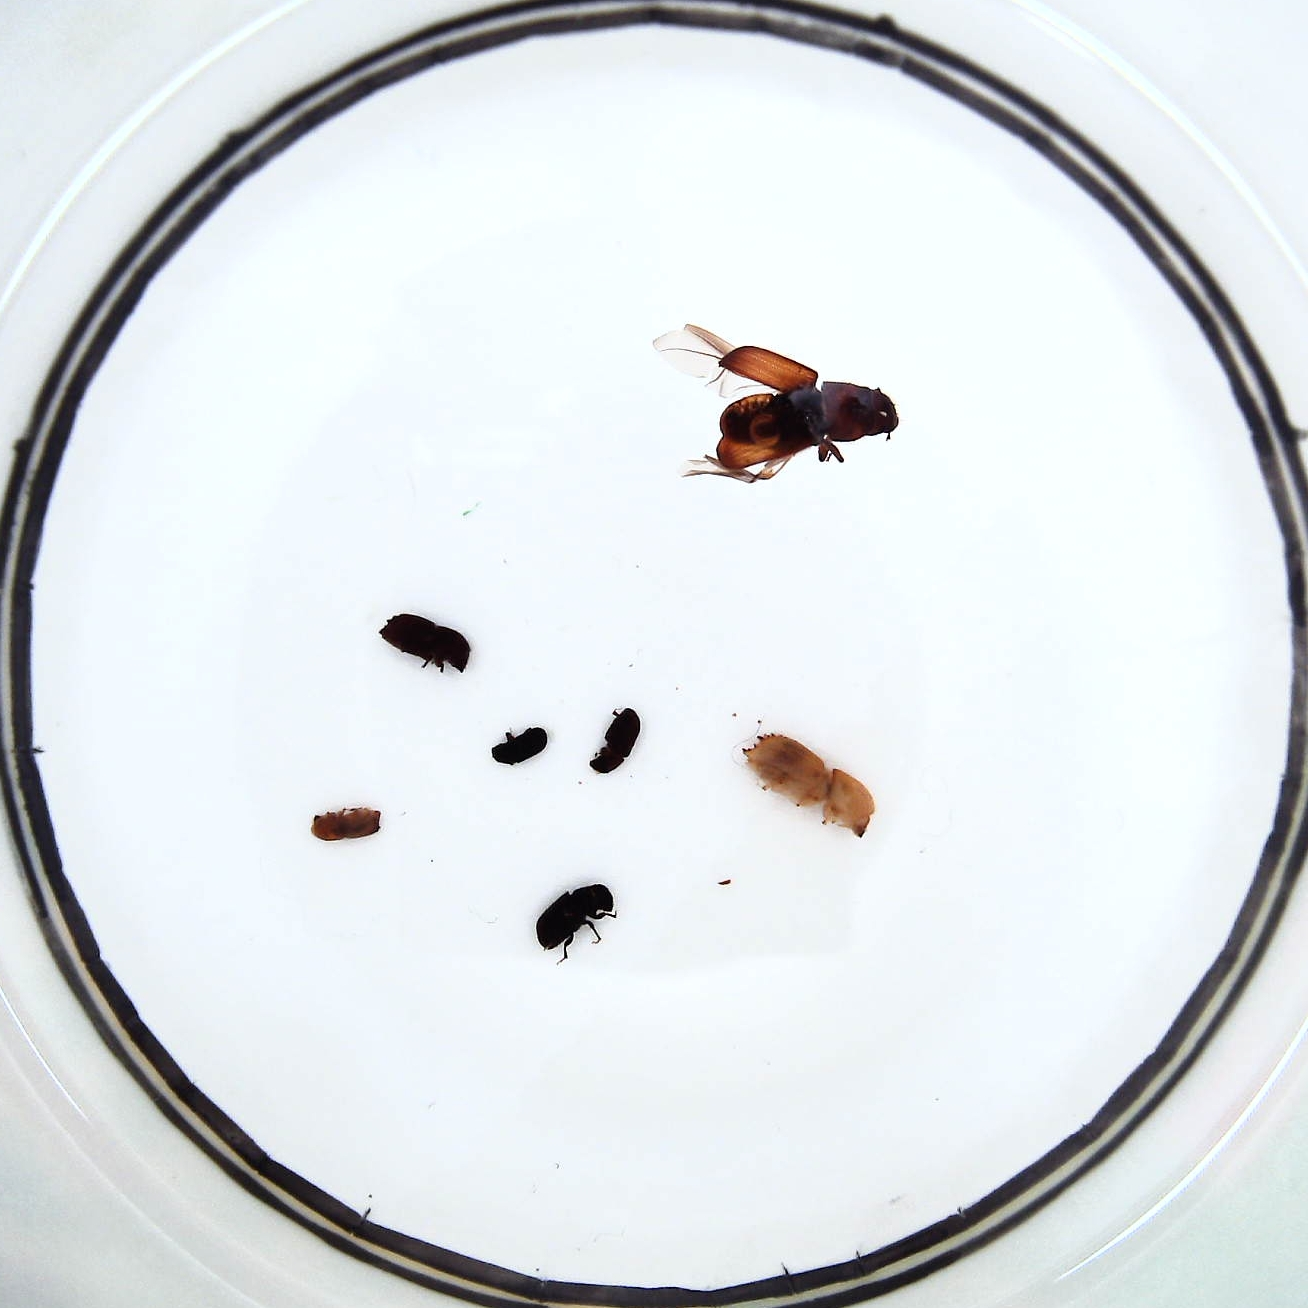Boerner: (741, 732, 874, 843)
Leconte: (689, 341, 902, 483)
Linnaeus: (381, 613, 470, 673)
acuminatus: (311, 807, 380, 844)
armandi: (535, 883, 612, 953)
coleoptera: (591, 709, 638, 773), (490, 726, 553, 765)
